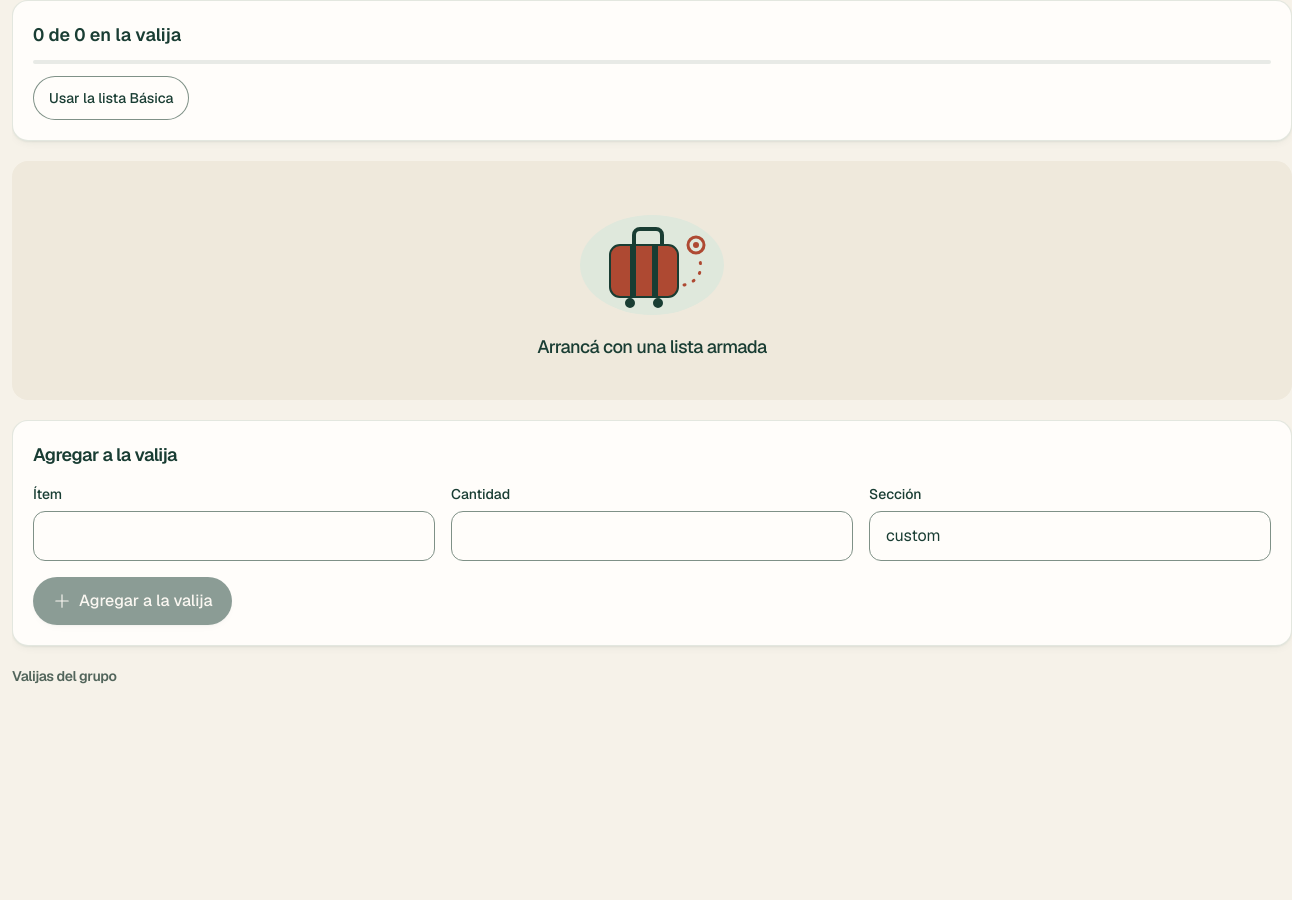
Test: applies a template and updates packed progress
Click the button "Usar la lista Básica" at x=111, y=98, box [33, 76, 190, 120]
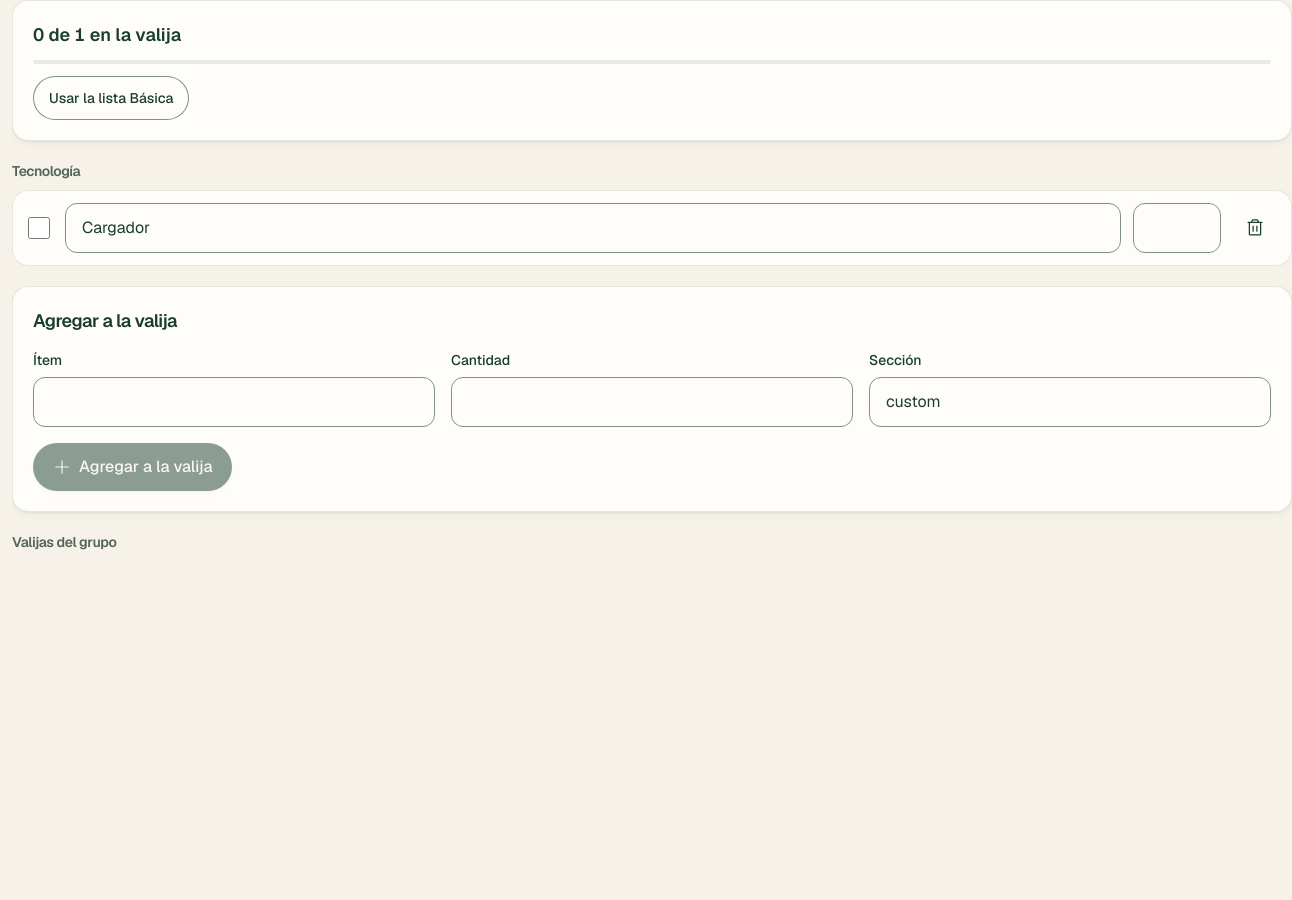
Click the checkbox named "Cargador" at x=39, y=228, box [28, 217, 50, 239]
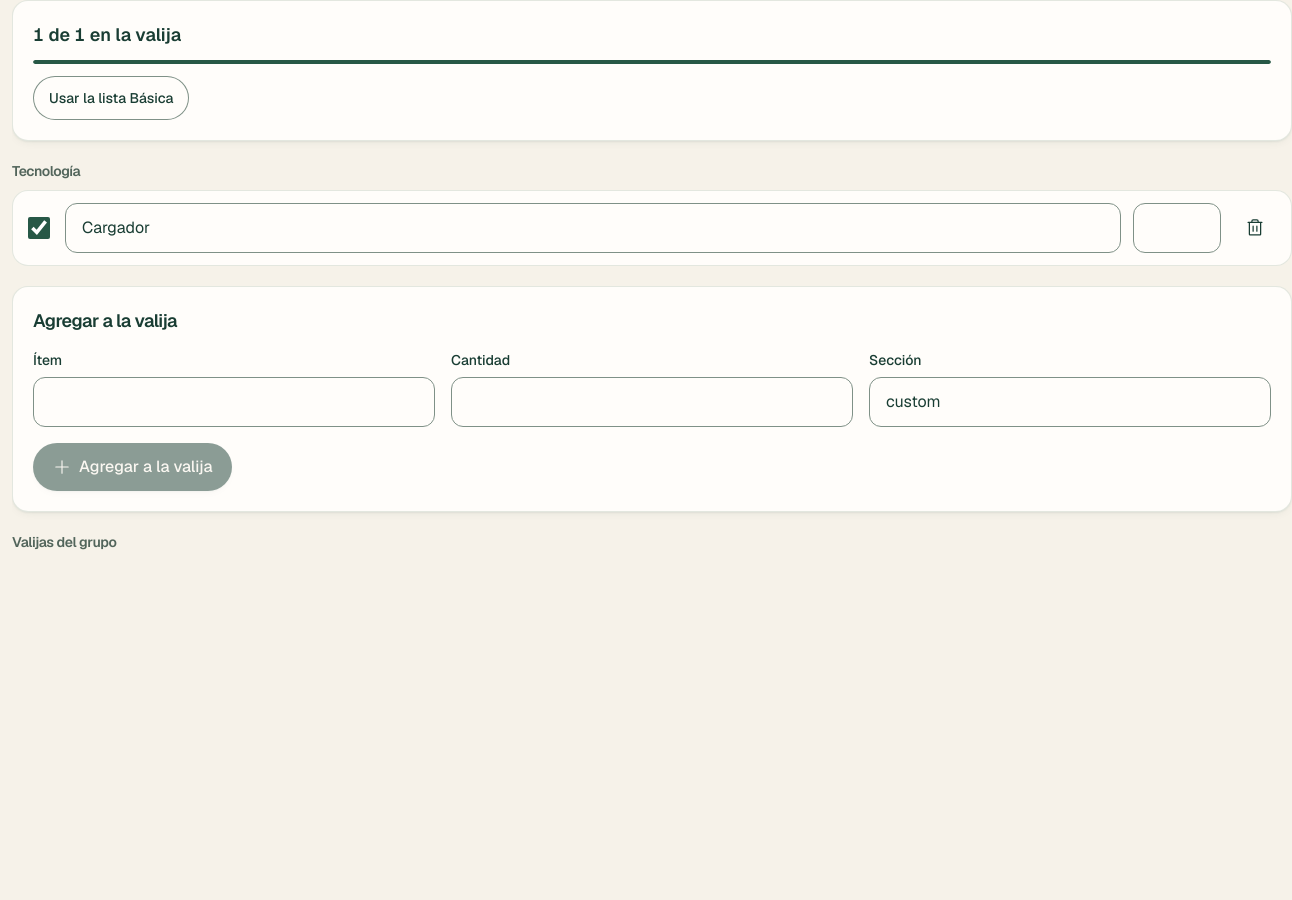
Expected: the text "1 de 1 en la valija" is shown, [33, 23, 181, 46]
